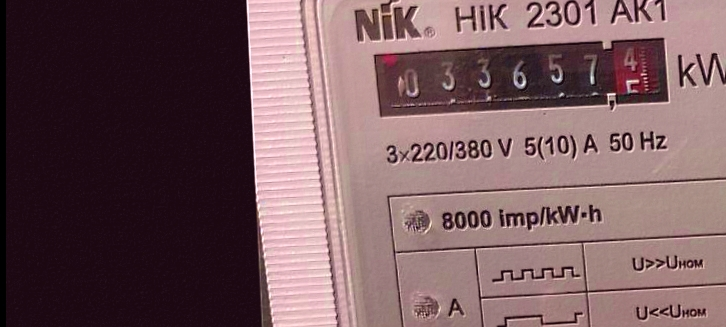0: (401, 64, 424, 102)
3: (439, 58, 460, 94), (475, 56, 495, 91)
4: (622, 44, 642, 74)
5: (545, 50, 569, 87)
6: (509, 57, 531, 93)
7: (582, 51, 602, 87)
screen: (362, 30, 679, 127)
